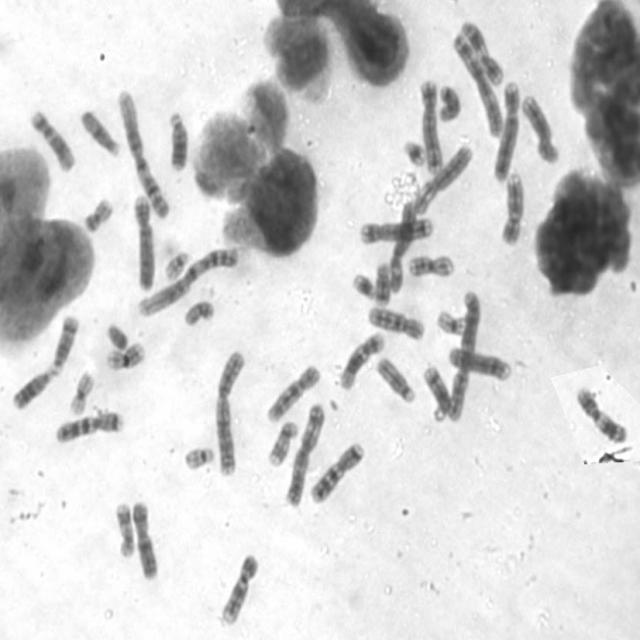A1: (136, 245, 238, 320), (116, 86, 171, 222)
A2: (446, 288, 484, 422), (213, 350, 246, 476)
A3: (450, 32, 505, 138), (284, 402, 326, 510)
B4: (491, 80, 522, 184), (132, 194, 156, 292)
B5: (417, 78, 444, 174), (358, 217, 434, 246)
C10: (265, 361, 324, 423), (367, 304, 426, 342)
C11: (460, 18, 504, 87), (576, 386, 628, 444)
C12: (30, 109, 78, 175), (338, 331, 385, 392)
C6: (412, 142, 474, 217), (388, 200, 418, 296)
C7: (308, 442, 365, 508), (53, 410, 125, 445)
C8: (520, 93, 561, 166), (447, 344, 515, 384)
C9: (219, 552, 264, 626), (500, 171, 525, 246)
D13: (162, 110, 191, 176), (12, 371, 52, 411)
D14: (50, 313, 80, 377), (421, 362, 452, 423)
D15: (80, 108, 122, 159), (374, 356, 416, 406)
E16: (408, 253, 457, 280), (106, 341, 146, 371)
E17: (268, 421, 298, 467), (113, 500, 135, 560)
E18: (437, 80, 462, 124), (373, 260, 393, 307)
F19: (68, 370, 95, 416), (436, 308, 469, 338)
F20: (82, 195, 114, 235), (183, 297, 215, 329)
G21: (350, 270, 377, 301), (401, 138, 428, 168)
G22: (161, 249, 195, 282), (182, 446, 215, 471)
X: (132, 499, 160, 581)
Y: (105, 322, 130, 351)
